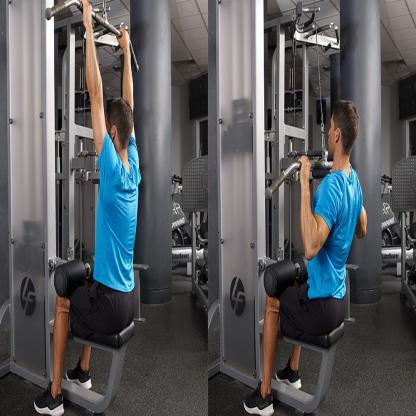Lat Pull Down: (200, 0, 372, 416), (8, 0, 147, 416)
